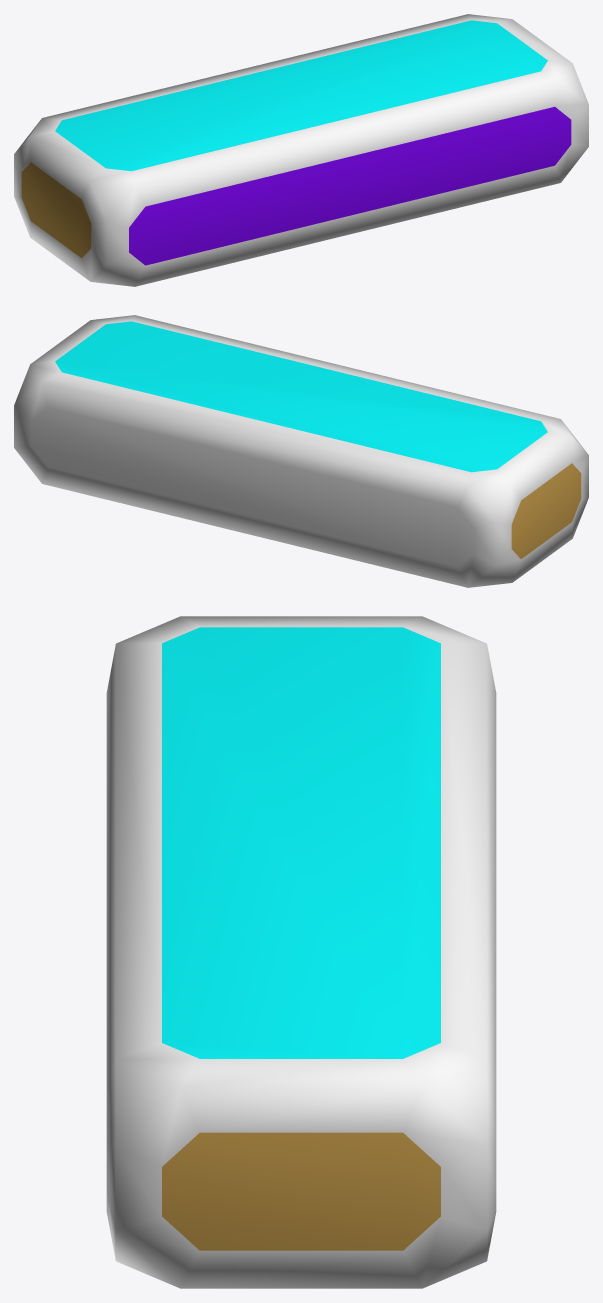
The model's file is D_FBX_15_Stick_C.fbx.
3 views of the same model, one above another, from view 1: azimuth 30°, elevation 25°; view 2: azimuth 150°, elevation 25°; view 3: azimuth 270°, elevation 25° (orthographic). The views are drawn at different scales.
Visible parts, largest first — view 1: D_FBX_15_Stick_C; view 2: D_FBX_15_Stick_C; view 3: D_FBX_15_Stick_C.
Boxes of the visible parts, x1,y1,x2,y2 form: D_FBX_15_Stick_C: (14, 14, 588, 286); D_FBX_15_Stick_C: (14, 315, 588, 587); D_FBX_15_Stick_C: (106, 616, 496, 1288).
Bounding box in the file's own units: 305 × 65 × 105.
